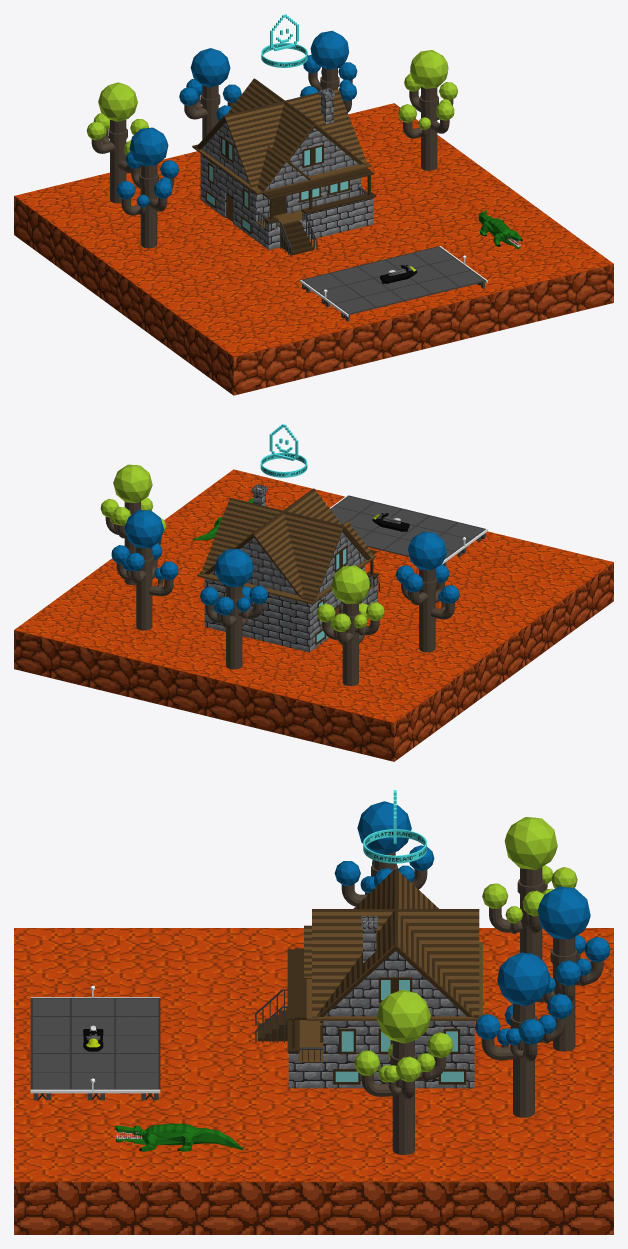
3 views of the same model, one above another, from view 1: azimuth 30°, elevation 25°; view 2: azimuth 150°, elevation 25°; view 3: azimuth 270°, elevation 25° (orthographic). The views are drawn at different scales.
Parts seen in each view (by area): view 1: Cube.001, Cube.586, TYPE_PREMIUM, ANIMAL_COCODRILO; view 2: Cube.001, Cube.586, TYPE_PREMIUM; view 3: Cube.001, Cube.586, ANIMAL_COCODRILO, TYPE_PREMIUM.
Part boxes in pixels (x1,y1,x2,y2): Cube.001: (14,30,613,395); Cube.586: (192,78,376,256); TYPE_PREMIUM: (261,14,307,67); ANIMAL_COCODRILO: (478,210,522,249); Cube.001: (14,464,613,761); Cube.586: (197,484,379,652); TYPE_PREMIUM: (260,424,307,477); Cube.001: (14,801,613,1234); Cube.586: (255,869,482,1088); ANIMAL_COCODRILO: (114,1123,243,1151); TYPE_PREMIUM: (363,790,426,863).
Size of the model in its own units: 4000 by 2418 by 4000.
25 materials, 6 textured.
